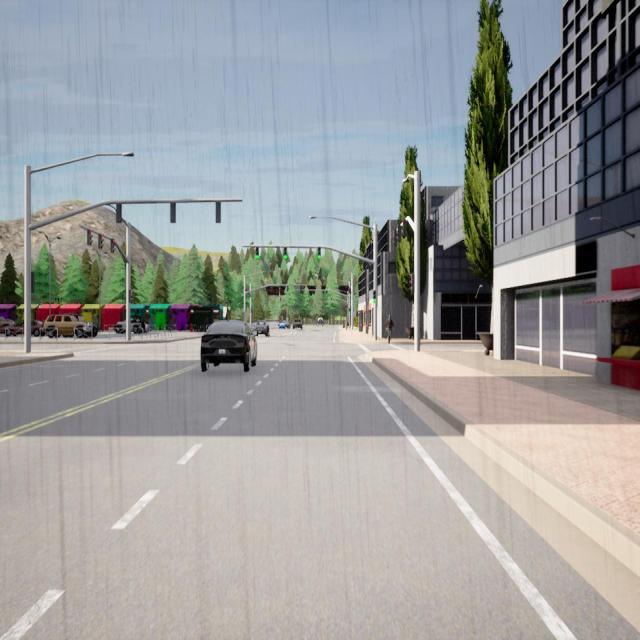Pedestrian: (386, 314, 394, 345)
Vehicle: (201, 320, 257, 371), (43, 314, 90, 338), (5, 319, 42, 337), (115, 316, 144, 334), (75, 314, 98, 336), (252, 320, 270, 337), (0, 315, 15, 334), (292, 319, 303, 329), (144, 322, 151, 333), (278, 321, 286, 330), (317, 317, 324, 327), (284, 320, 291, 330)
traffic_light: (116, 204, 122, 224), (170, 203, 176, 223), (216, 202, 221, 224), (87, 229, 93, 245), (98, 233, 104, 249), (110, 238, 116, 253), (396, 224, 401, 242), (401, 220, 406, 238), (410, 273, 414, 295), (31, 272, 35, 293), (128, 290, 134, 302), (392, 229, 396, 246), (318, 246, 322, 262), (283, 247, 288, 259), (373, 290, 376, 304), (256, 247, 259, 260), (300, 290, 303, 298), (312, 290, 314, 298), (326, 289, 328, 297), (348, 307, 350, 313), (250, 308, 252, 314)
